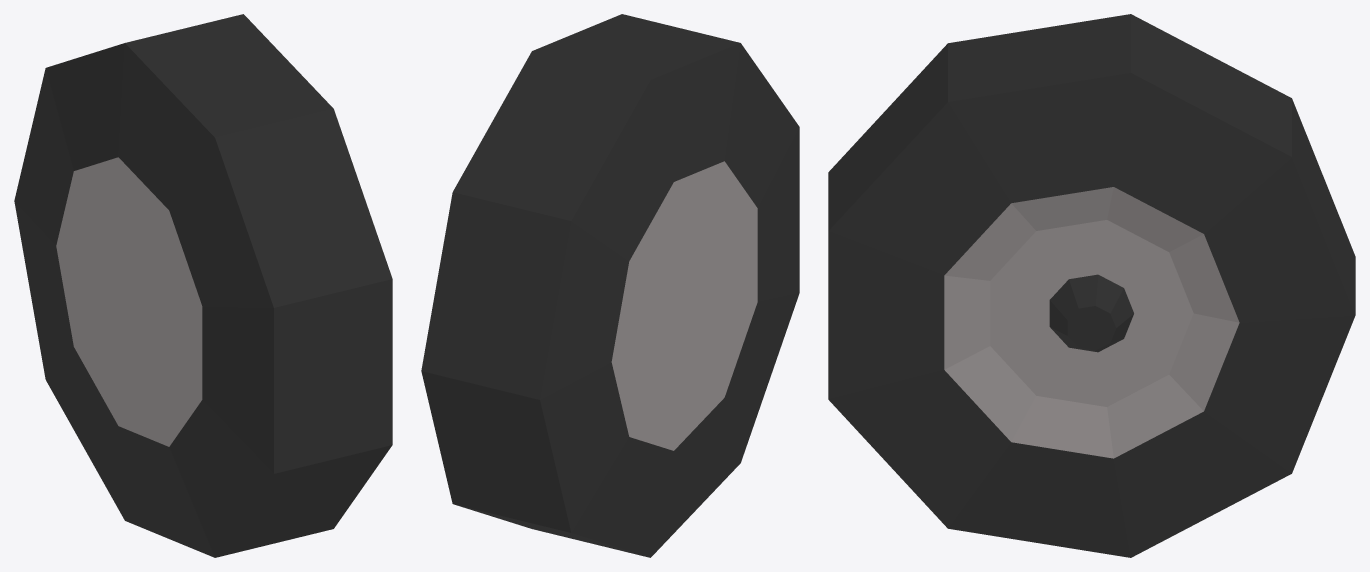
File: car-tow-truck-wheel_FL.glb
3 renders of one model, left to right at view 1: azimuth 30°, elevation 25°; view 2: azimuth 150°, elevation 25°; view 3: azimuth 270°, elevation 25°, orthographic.
Parts seen in each view (by area): view 1: car-tow-truck-wheel_FL; view 2: car-tow-truck-wheel_FL; view 3: car-tow-truck-wheel_FL.
Part boxes in pixels (<box>): car-tow-truck-wheel_FL: <box>14,14,392,557</box>; car-tow-truck-wheel_FL: <box>421,14,799,557</box>; car-tow-truck-wheel_FL: <box>828,14,1355,557</box>.
Bounding box in the file's own units: 0.2919 × 0.8359 × 0.8232.
1 material, 1 textured.
